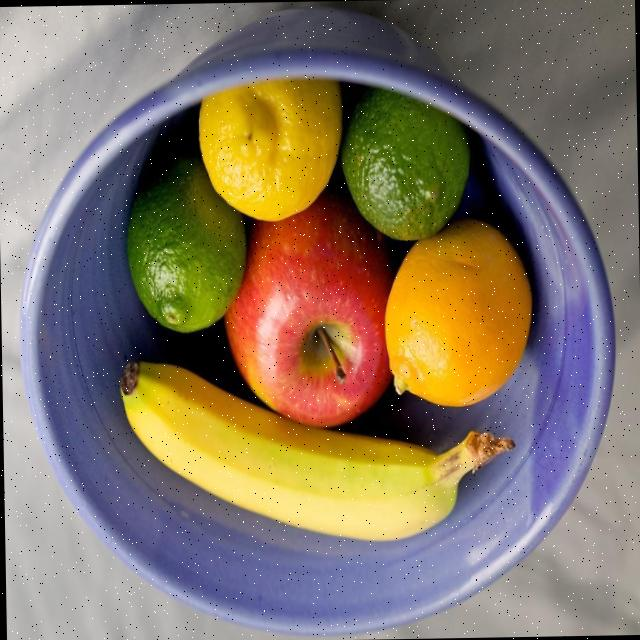apple: (221, 170, 397, 425)
banana: (118, 357, 458, 537)
